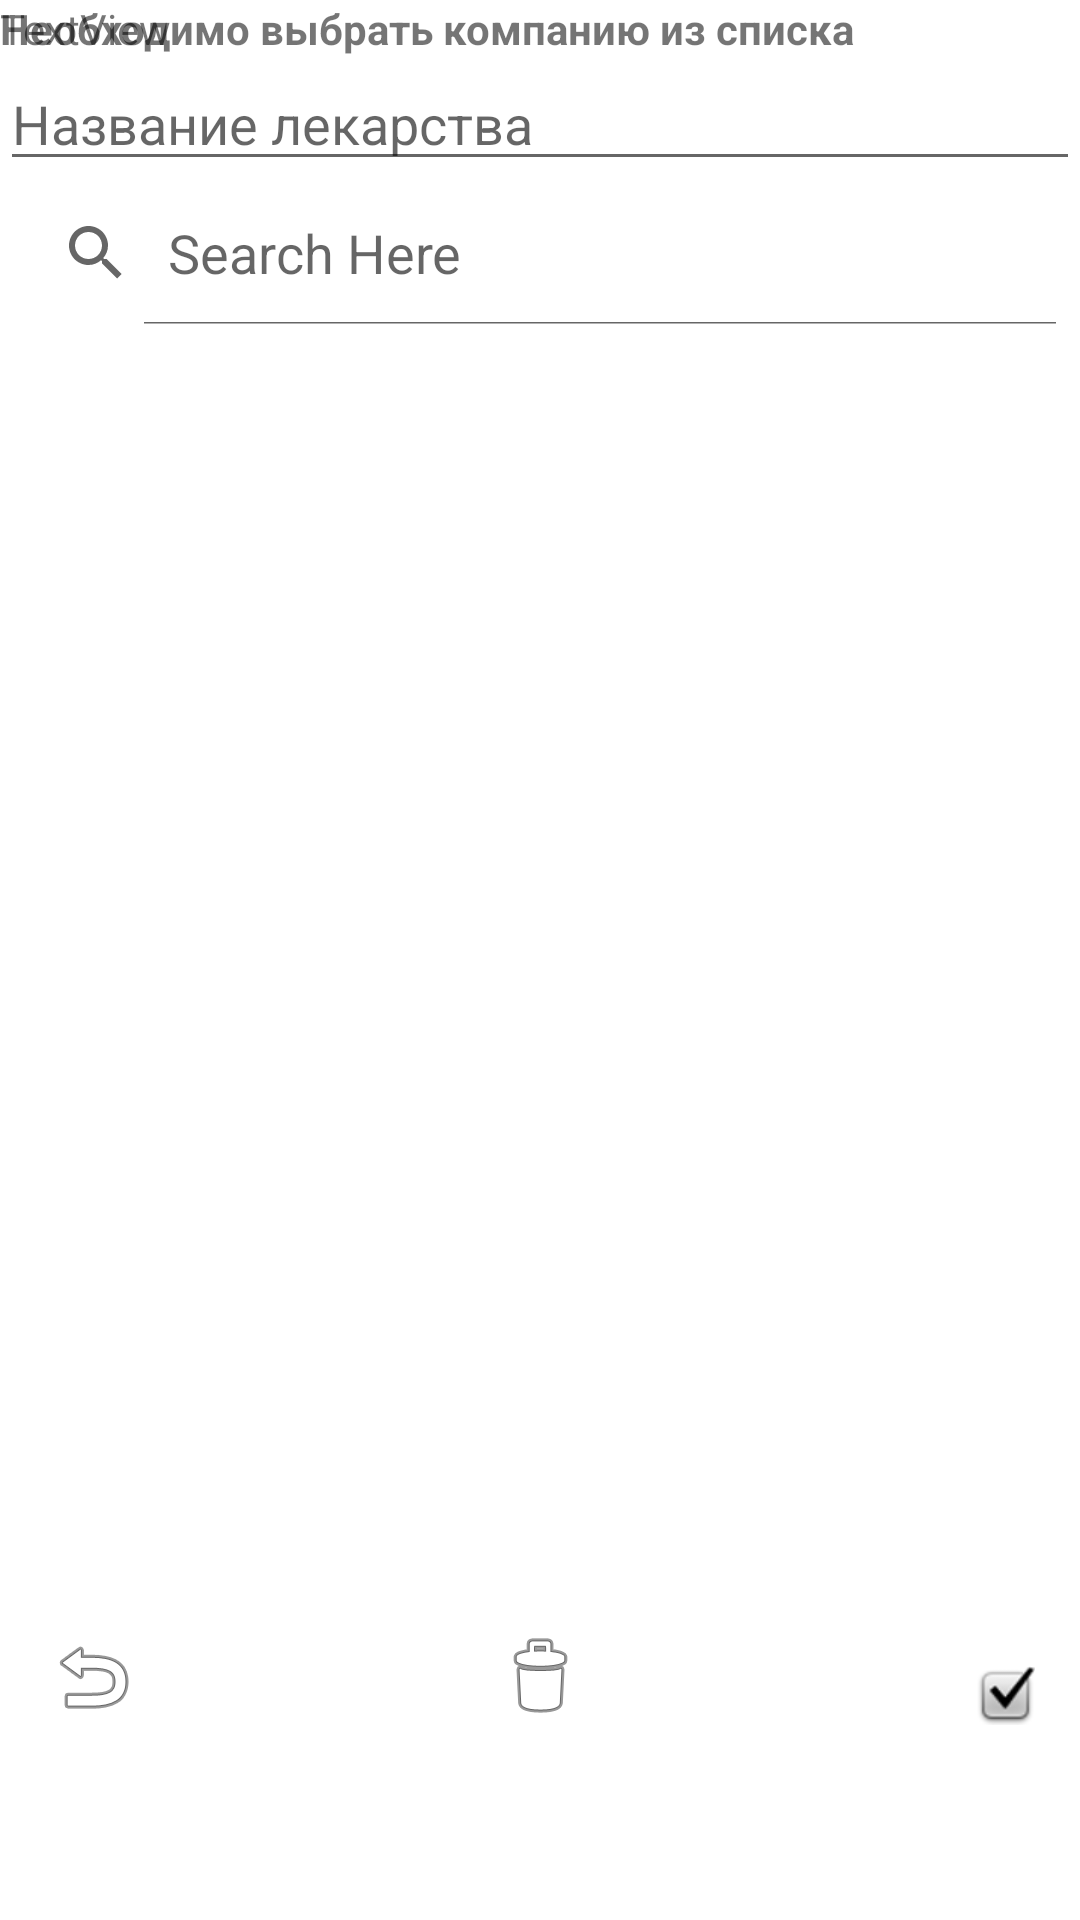

Where to tap for icons on this 1080×1920 app screen, as (x=x, y=y):
delete: (x=540, y=1675)
revert: (x=94, y=1677)
